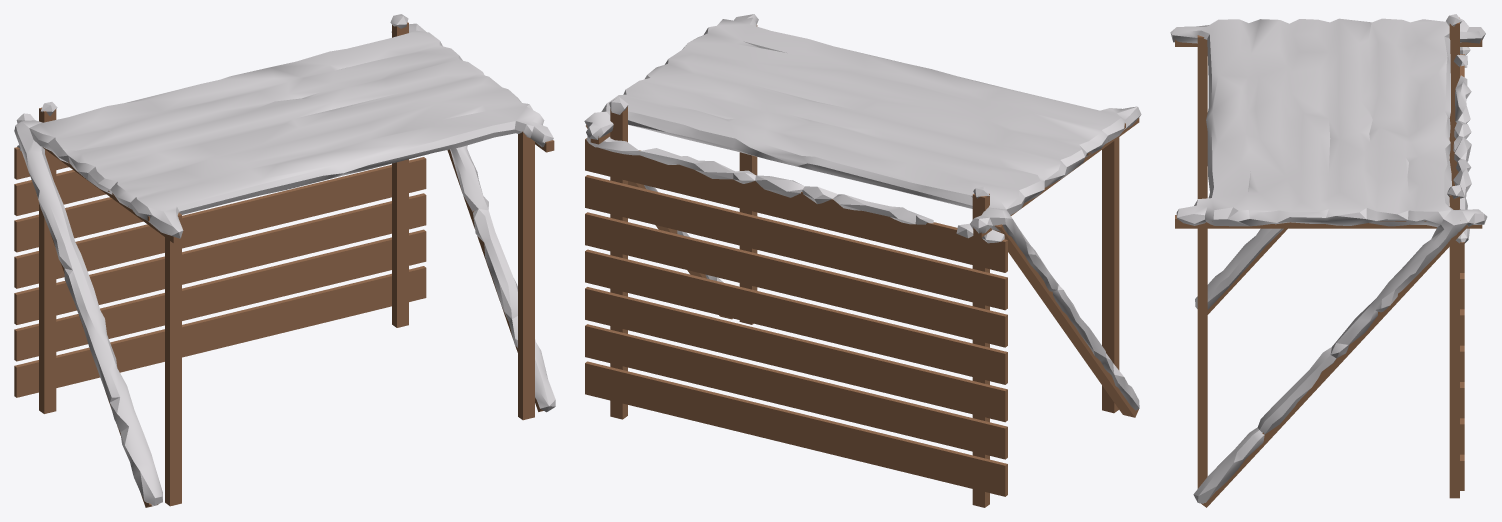
The model's file is TentSnowy_5.fbx.
3 views of the same model, side by side, from view 1: azimuth 30°, elevation 25°; view 2: azimuth 150°, elevation 25°; view 3: azimuth 270°, elevation 25° (orthographic). The views are drawn at different scales.
Parts seen in each view (by area): view 1: TentSnowy_5; view 2: TentSnowy_5; view 3: TentSnowy_5.
Part boxes in pixels (x1,y1,x2,y2): TentSnowy_5: [14, 14, 555, 507]; TentSnowy_5: [584, 14, 1141, 507]; TentSnowy_5: [1170, 14, 1487, 507].
Bounding box in the file's own units: 367 × 262 × 243.
